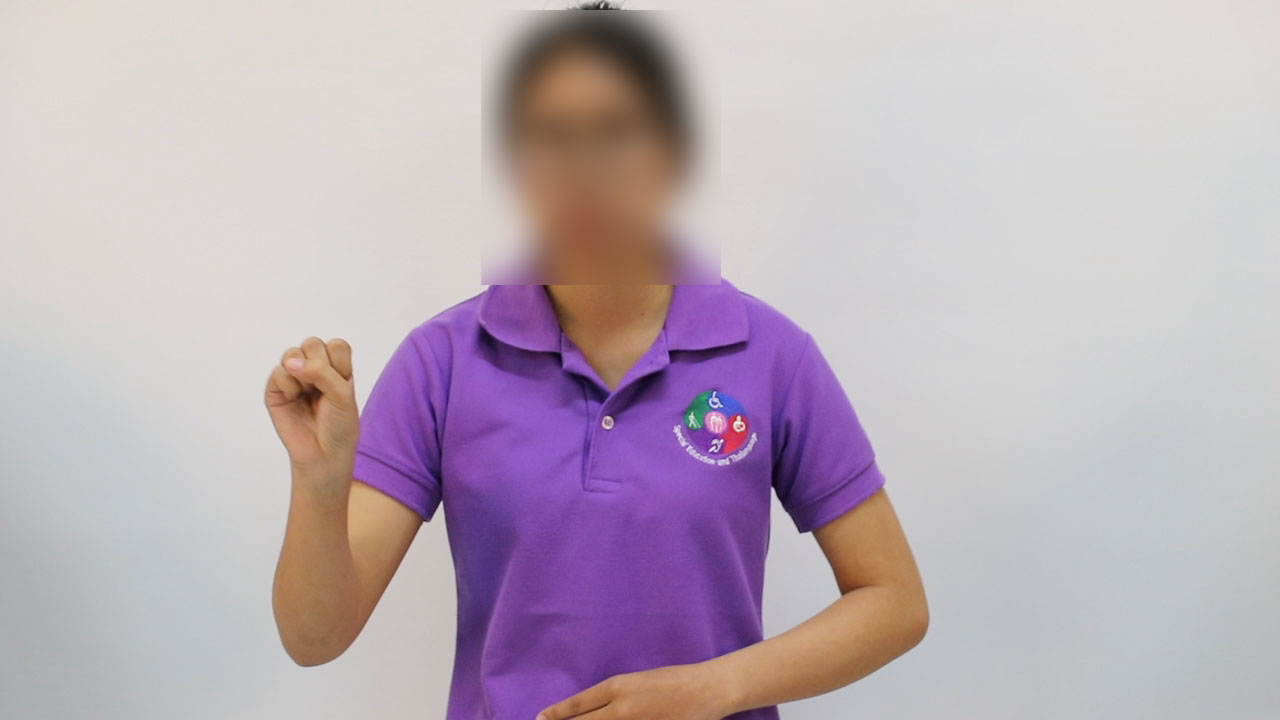sor: (242, 329, 379, 476)
